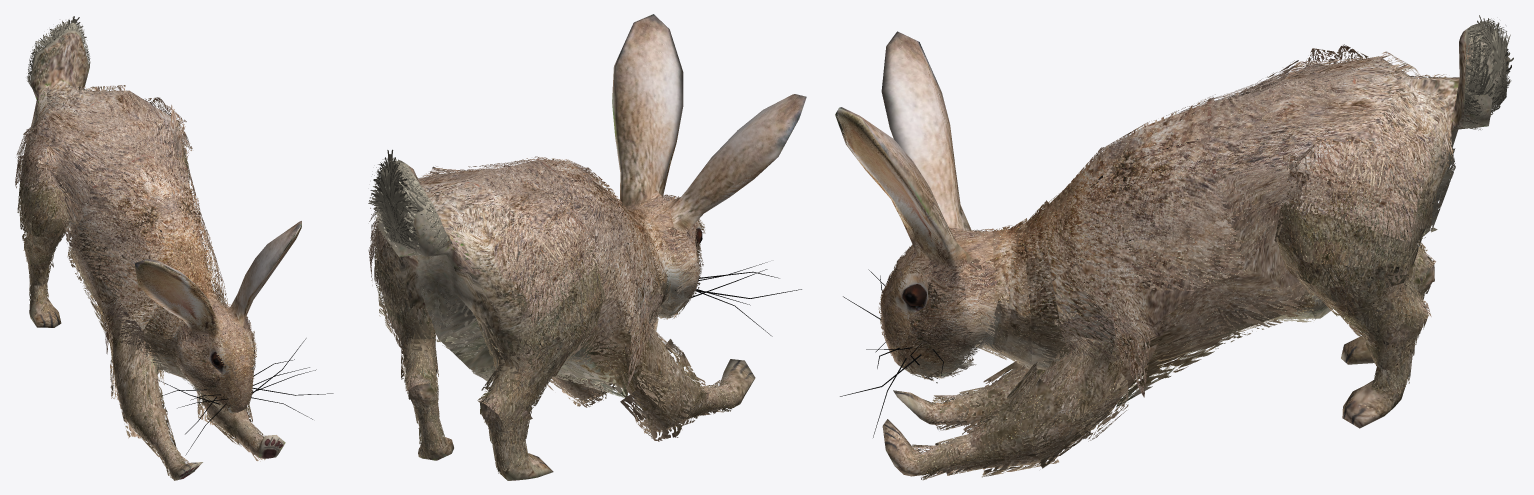
Rendered from rabbit20021.obj.
The picture shows the model from 3 angles, left to right: view 1: azimuth 30°, elevation 25°; view 2: azimuth 150°, elevation 25°; view 3: azimuth 270°, elevation 25°; orthographic projection. The views are drawn at different scales.
Visible parts, largest first — view 1: Rabbit, Fur; view 2: Rabbit, Fur; view 3: Rabbit, Fur.
Part boxes in pixels (x1,y1,x2,y2): Rabbit: [20, 31, 333, 480]; Fur: [15, 16, 265, 478]; Rabbit: [376, 14, 806, 480]; Fur: [368, 149, 738, 473]; Rabbit: [835, 27, 1510, 476]; Fur: [878, 15, 1513, 480].
Size of the model in its own units: 8.58 by 13.87 by 18.17.
